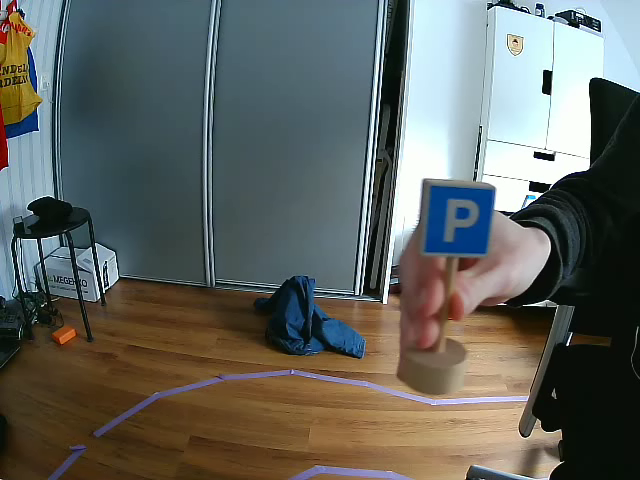parkeerbord: (422, 180, 495, 254)
